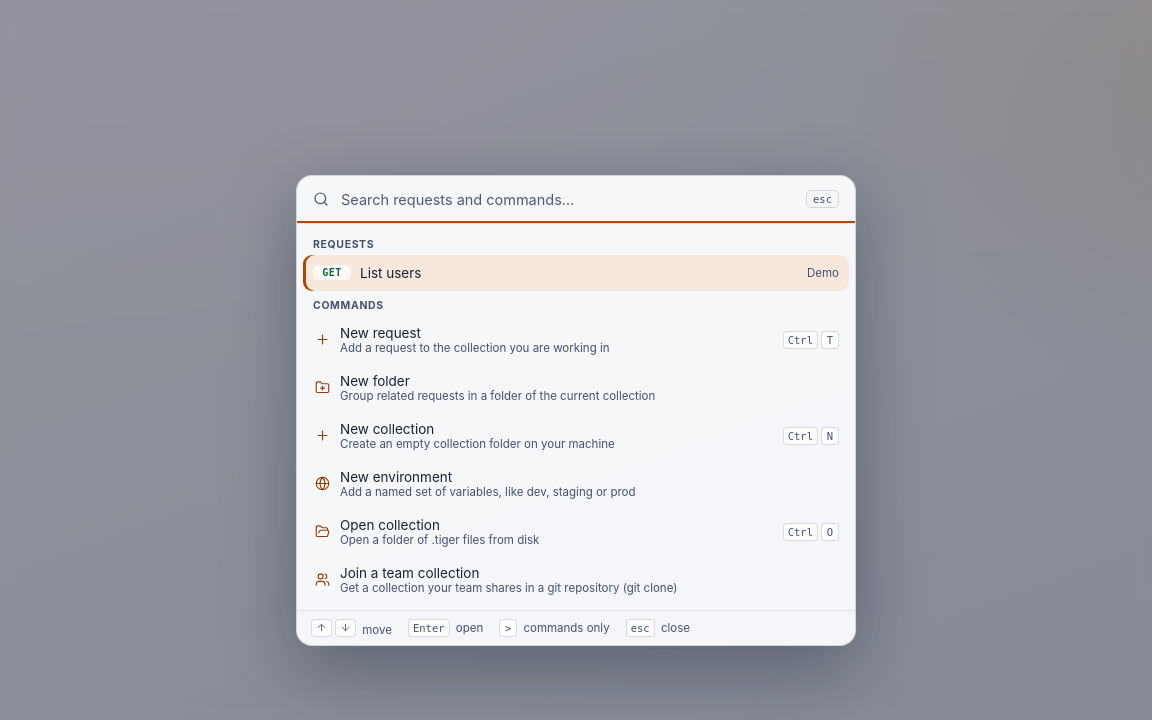
command palette reads the action registry › finds a renamed feature by its old name
Type "perf" into the dropdown. click: [568, 199]
box: [339,190,796,209]
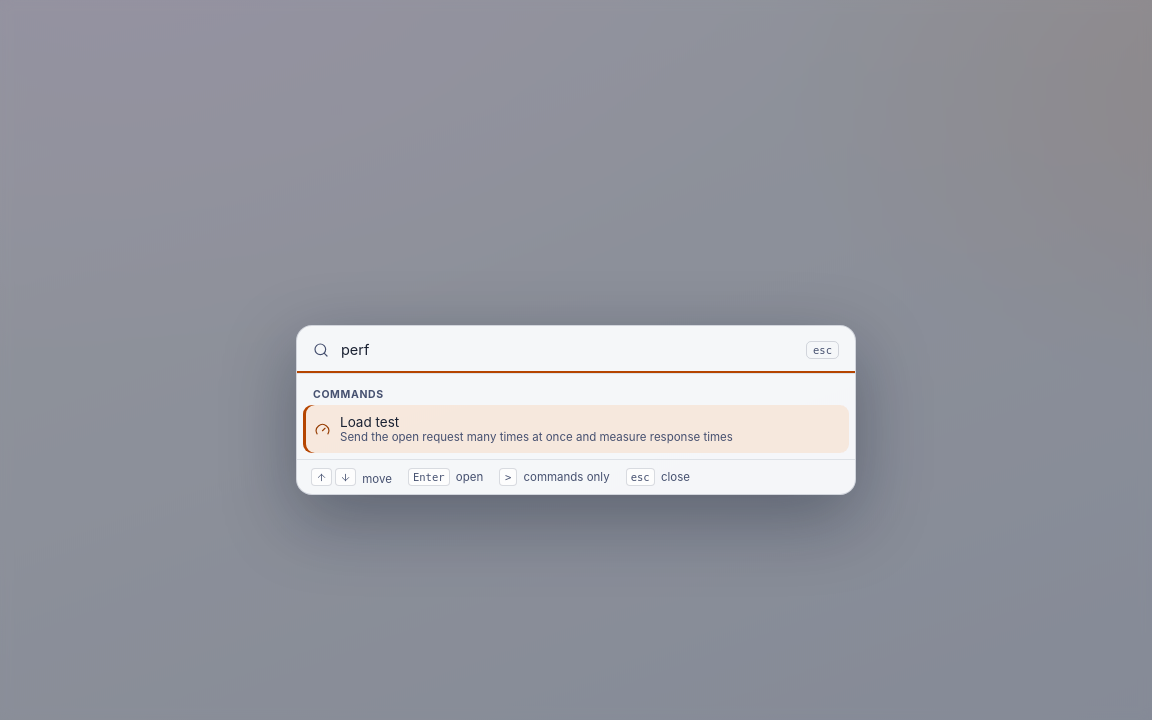
Expected: the option "Load test" is shown, [303,405,849,453]
